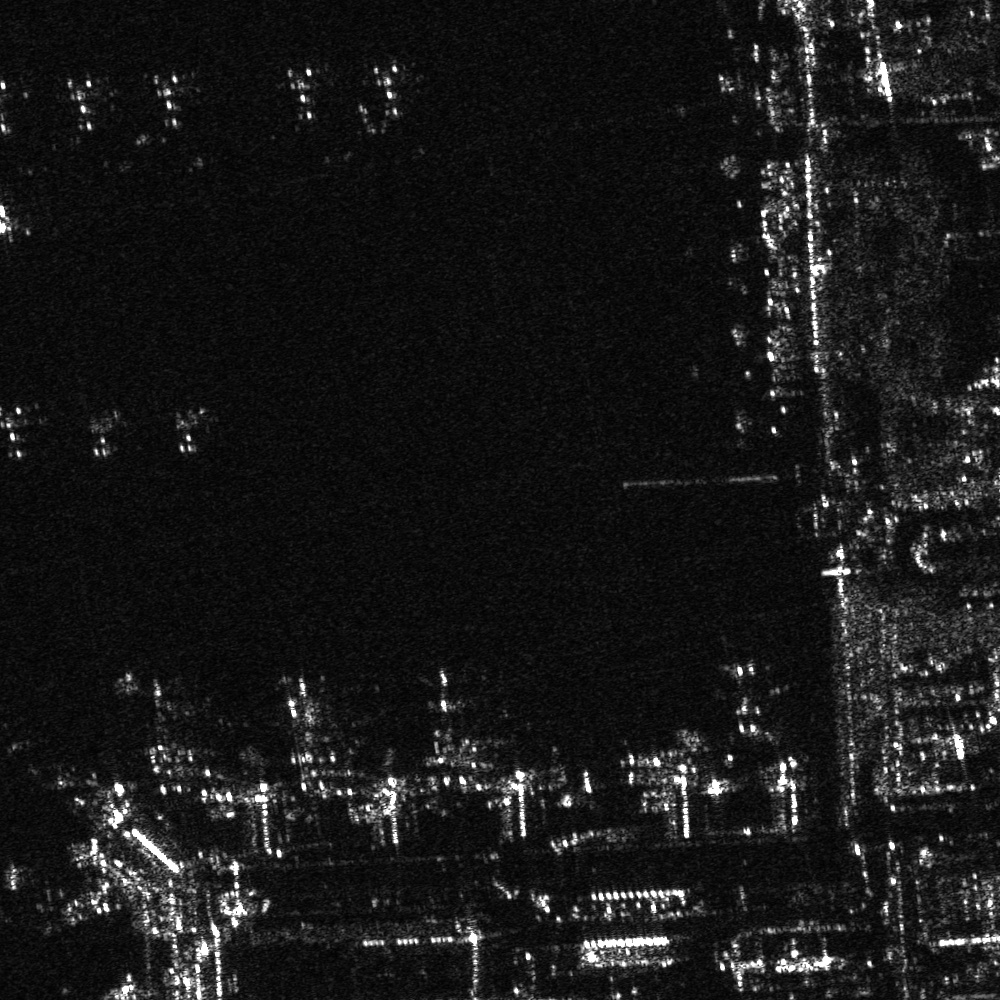A220: (705, 659, 797, 744), (272, 667, 338, 747), (75, 400, 126, 461)
A320/321: (161, 400, 215, 458)
Boeing787: (412, 664, 479, 737)
other: (352, 55, 422, 125), (138, 63, 200, 139), (124, 668, 190, 738), (57, 65, 108, 139), (275, 59, 324, 129)
